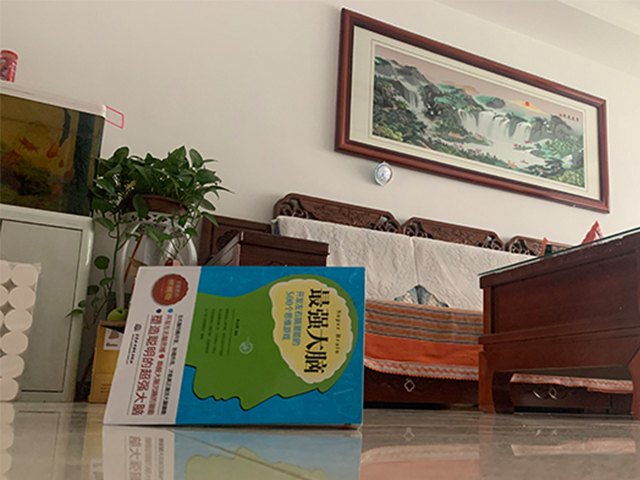book: (103, 265, 367, 428)
sofa: (195, 192, 633, 414)
table: (476, 225, 640, 420)
